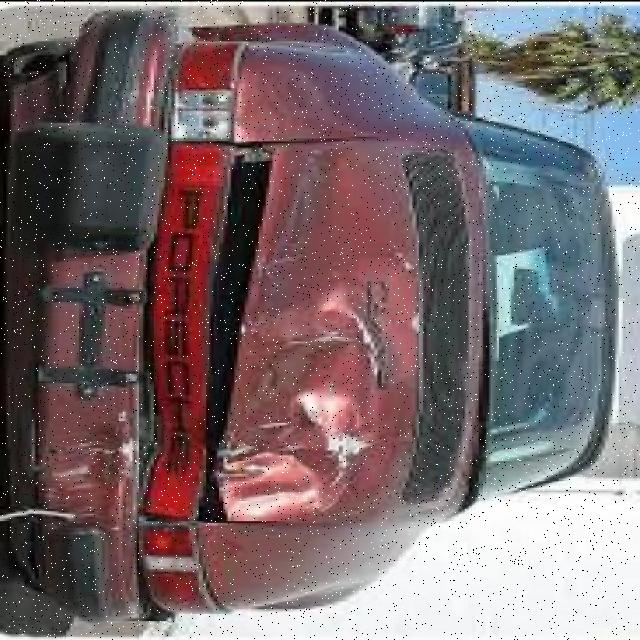damage: (19, 149, 385, 531)
